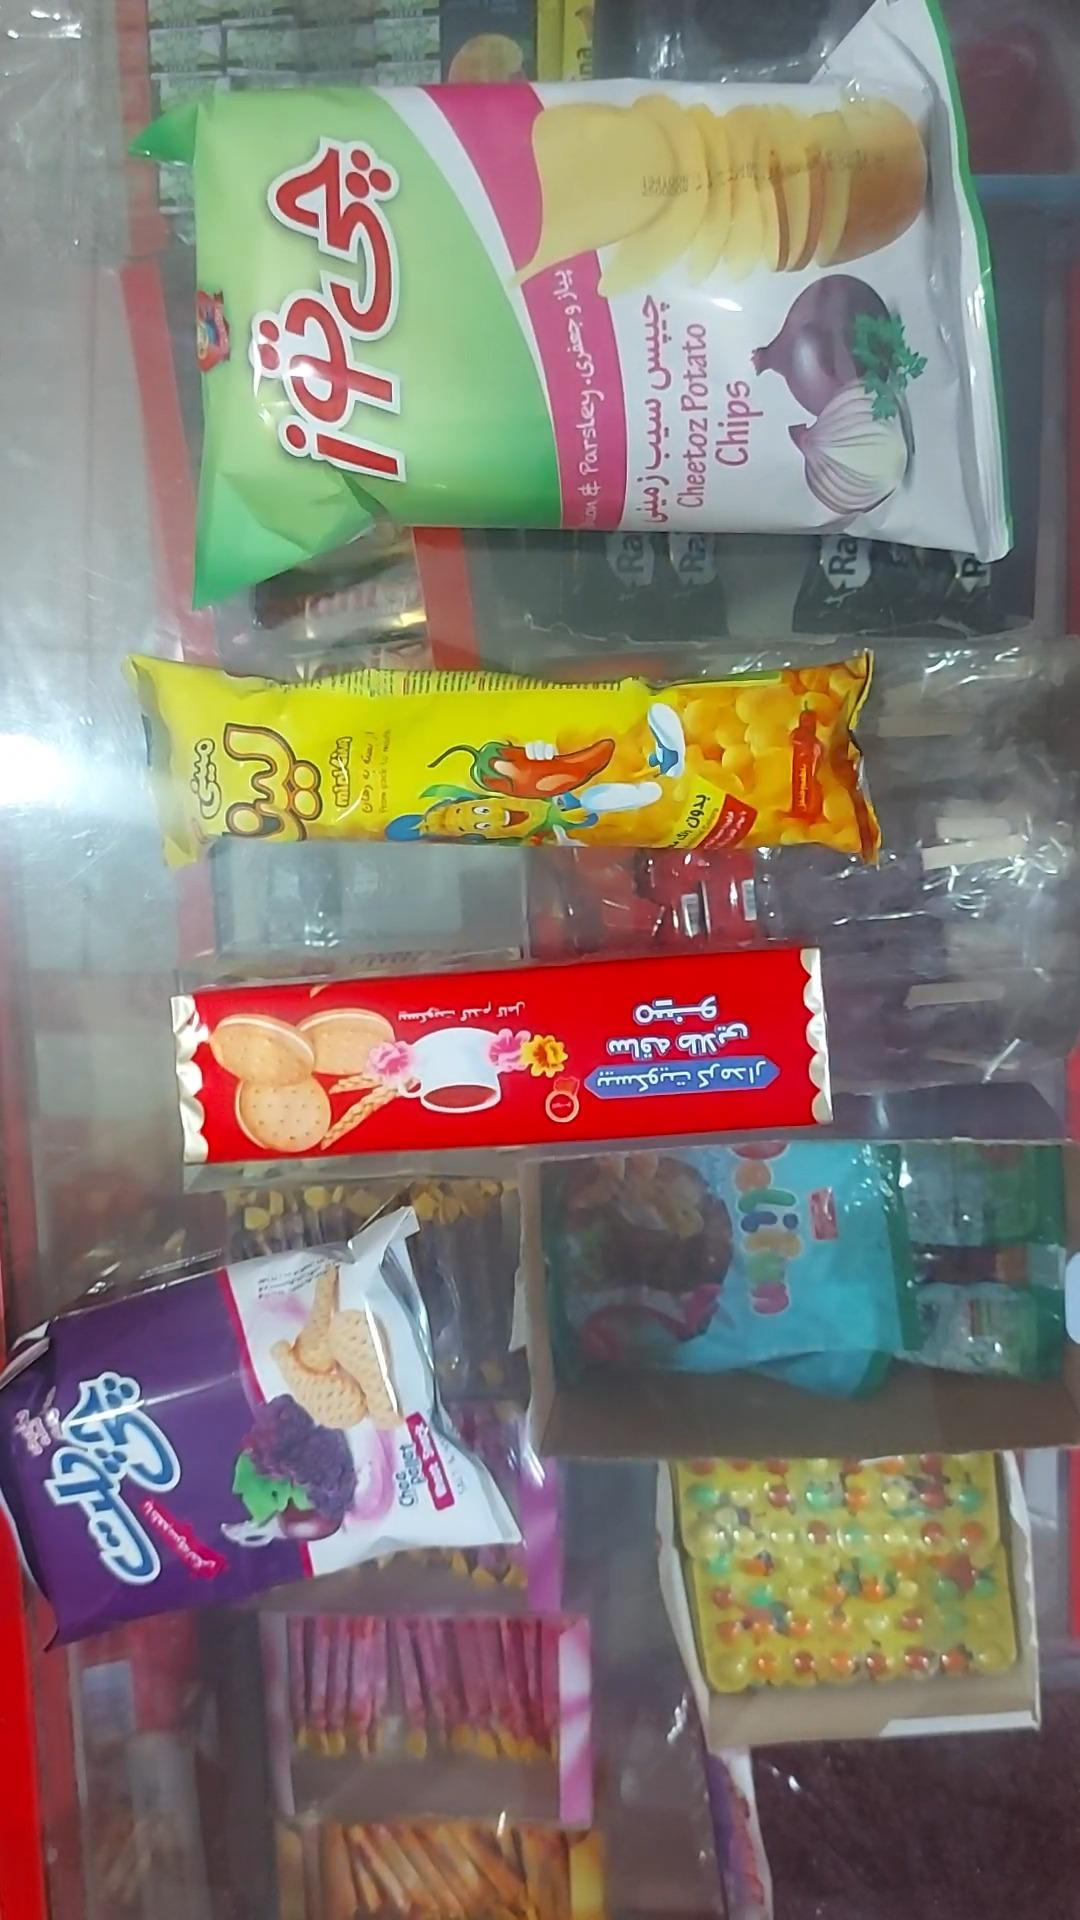Chee pellet vinegar: (0, 1207, 524, 1648)
Cheetoz onion and parsley chips: (135, 0, 1013, 611)
Mini Lina: (125, 649, 882, 870)
Minoo cream biscuit: (173, 947, 833, 1164)
